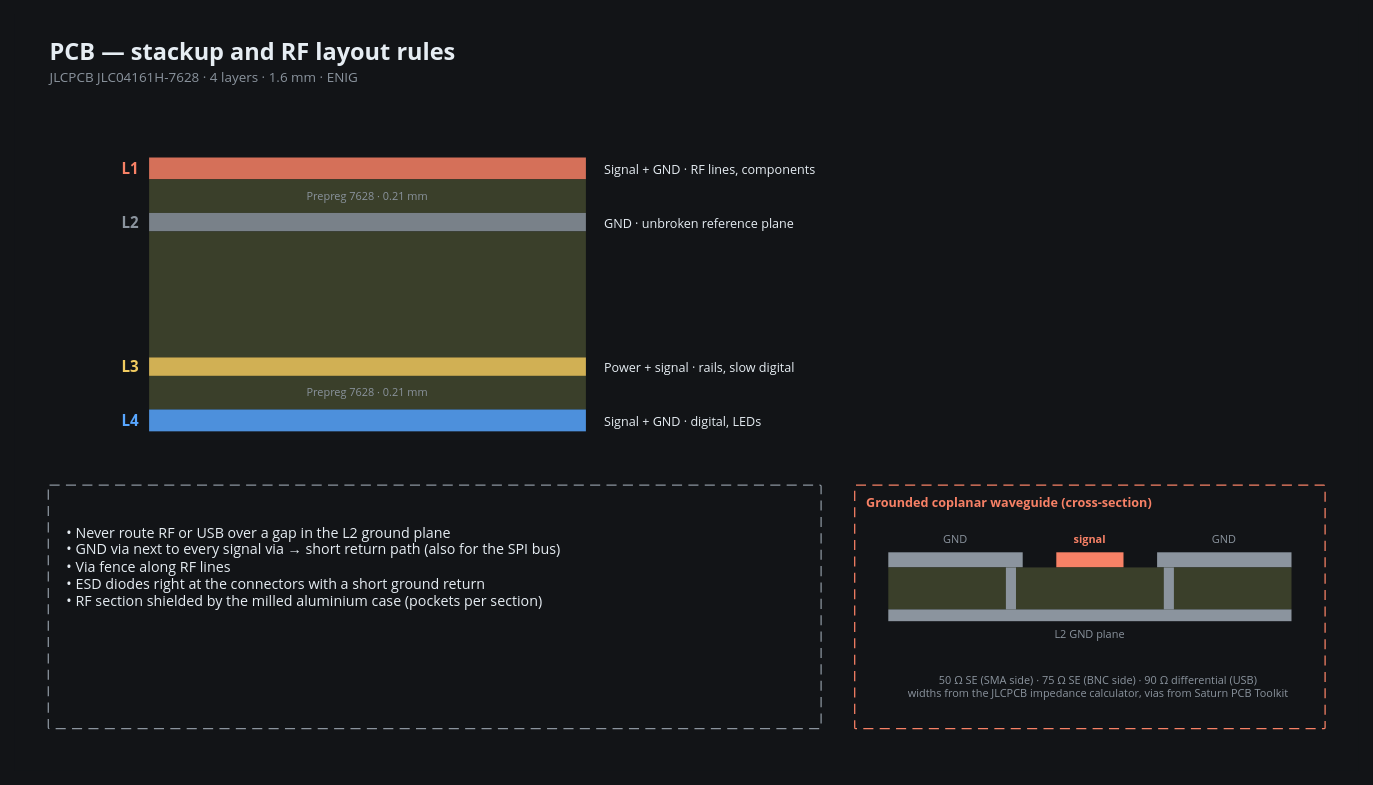
Image size: 1373x785. Some labels were removed from this diagram. Here are the shapes that lost their labels. From the top down, the box of each, then its label:
(149, 231, 585, 357): Core · 1.07 mm
(47, 484, 821, 729): Layout rules
